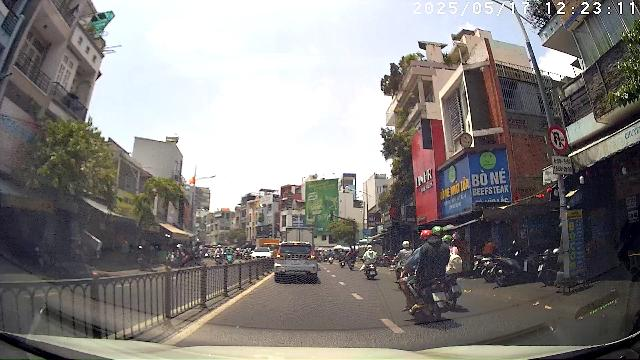124b-cam-oto-quay-dau-xe: (547, 125, 569, 153)
